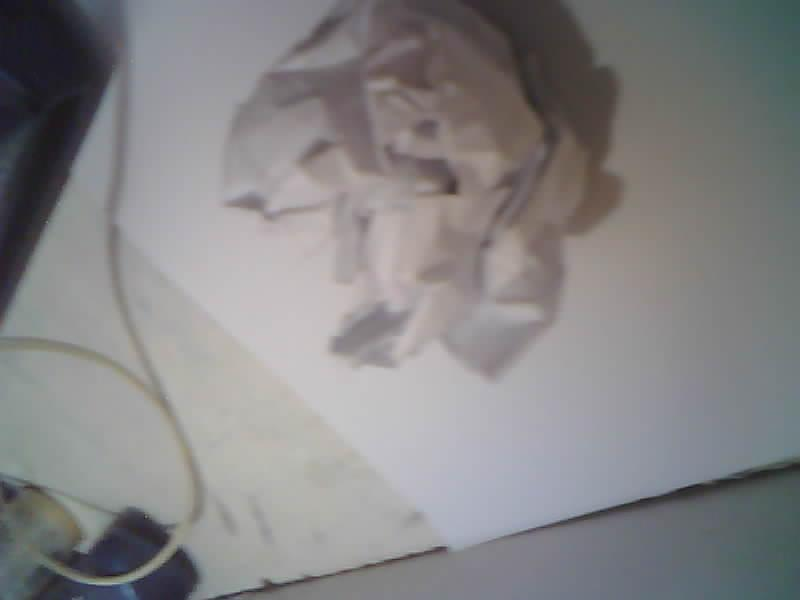biodegradable: (223, 1, 585, 377)
